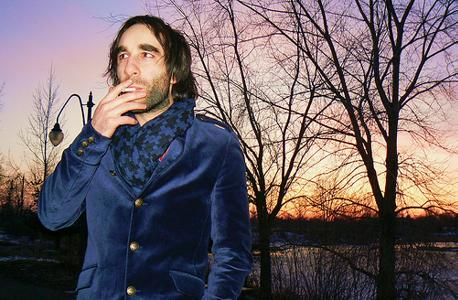person: (35, 13, 258, 298)
